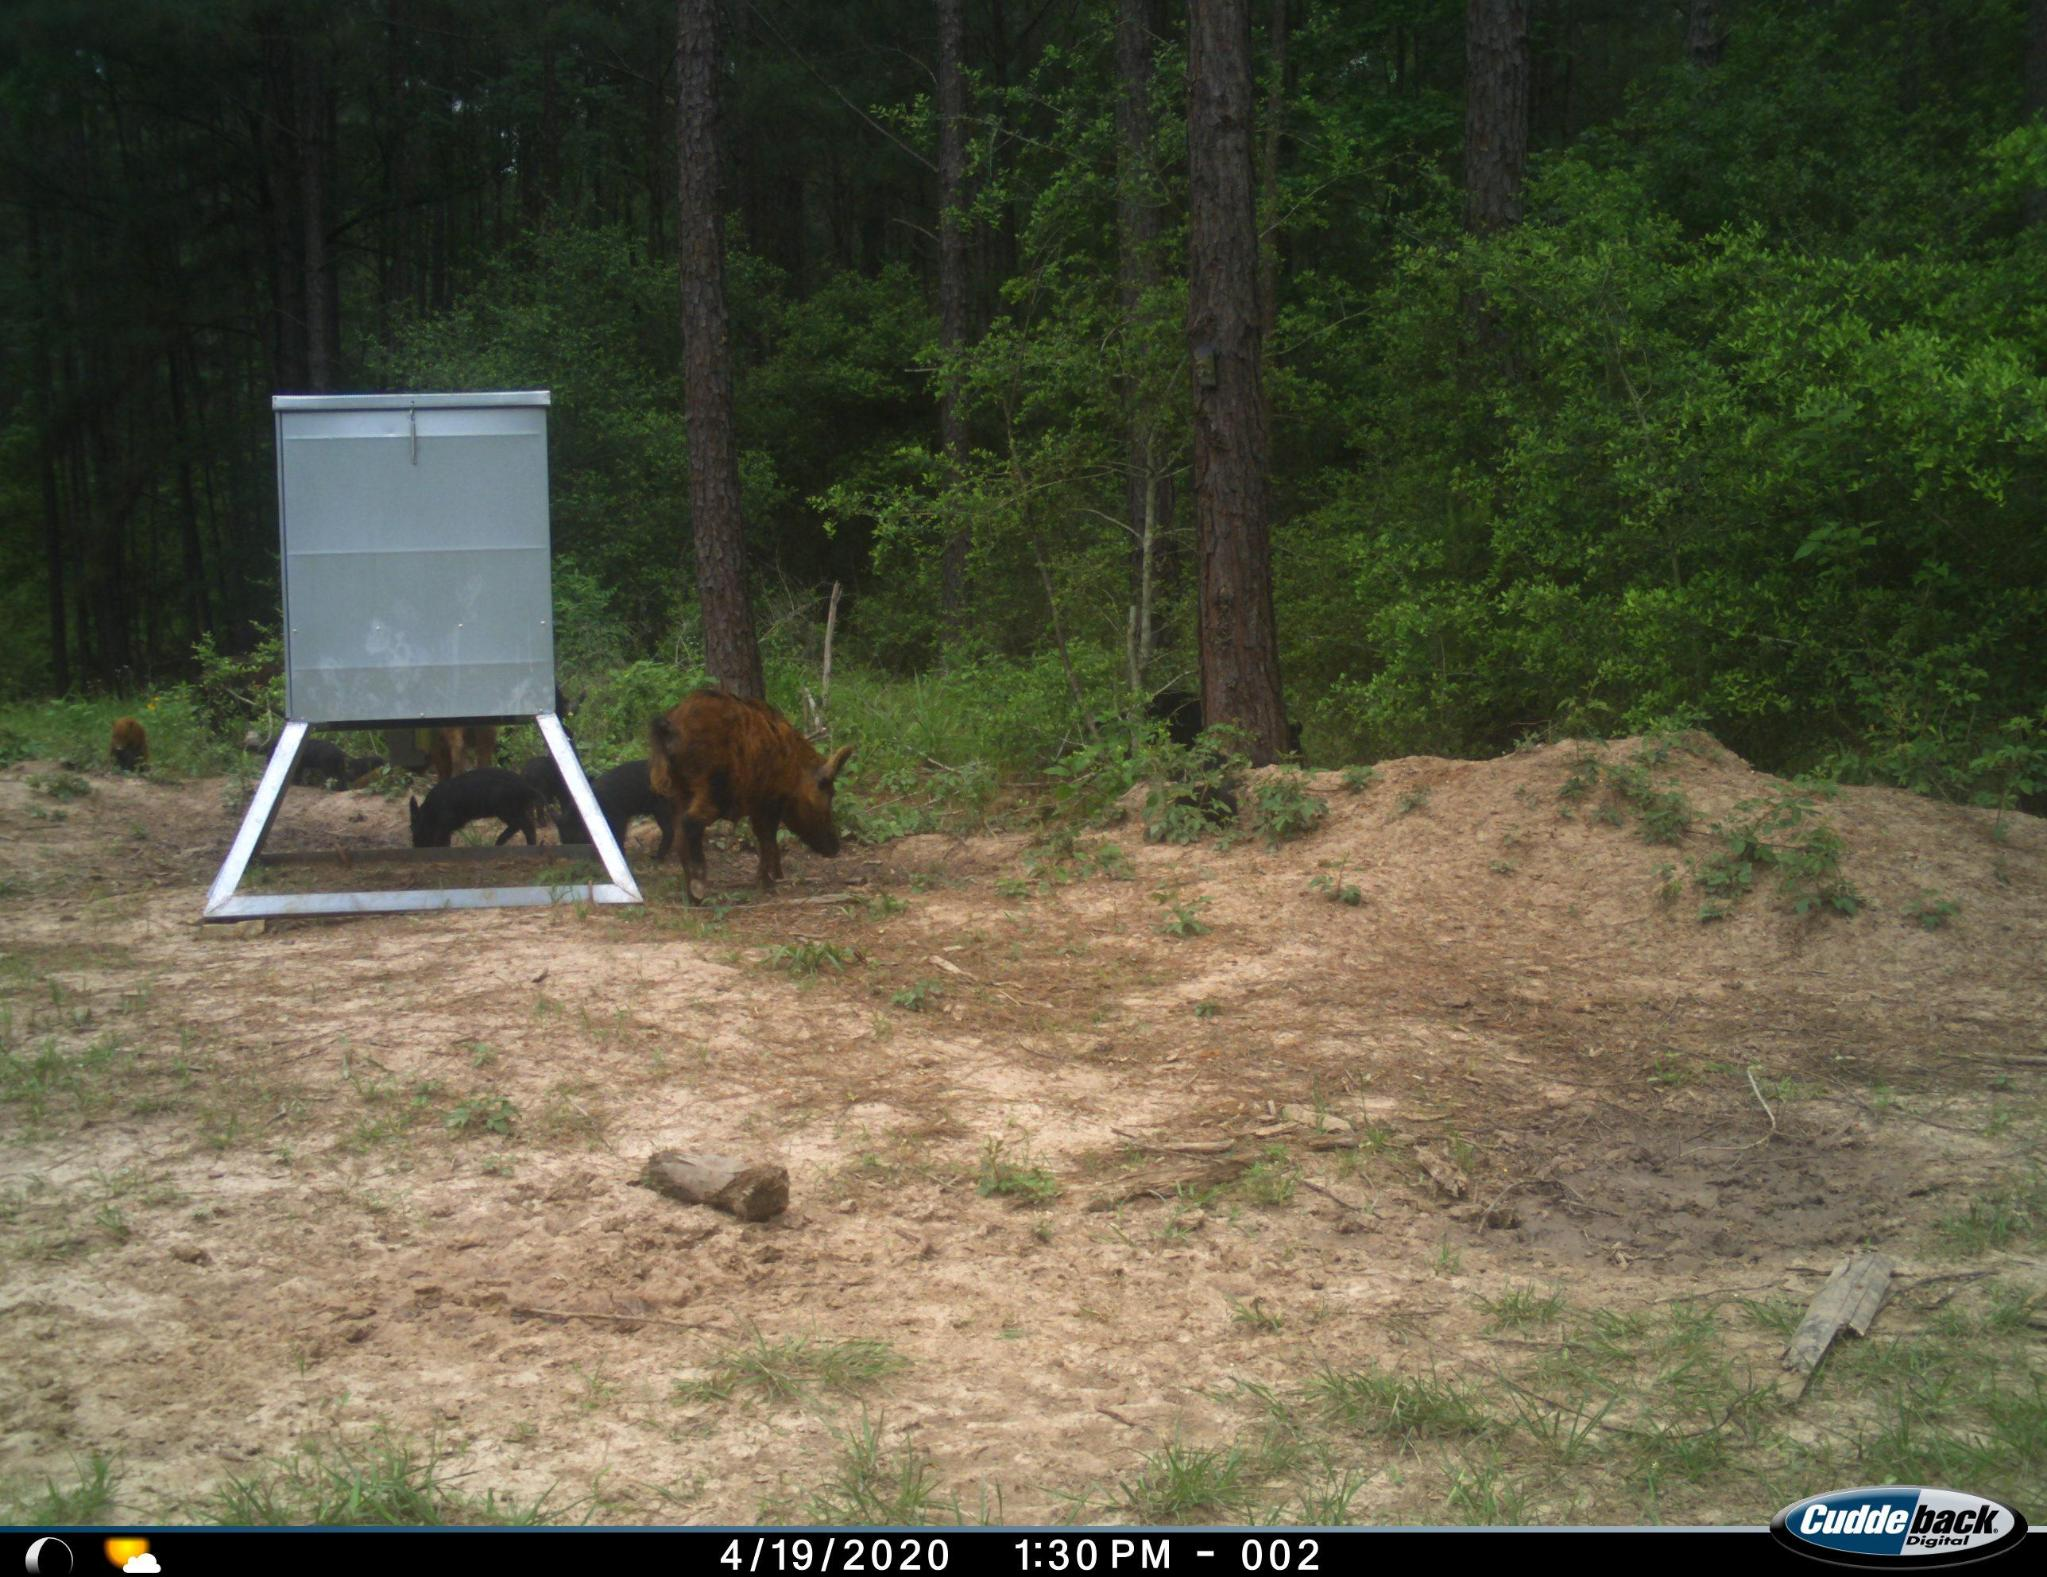Hog: (639, 682, 850, 916), (394, 757, 545, 853), (86, 709, 157, 770)
